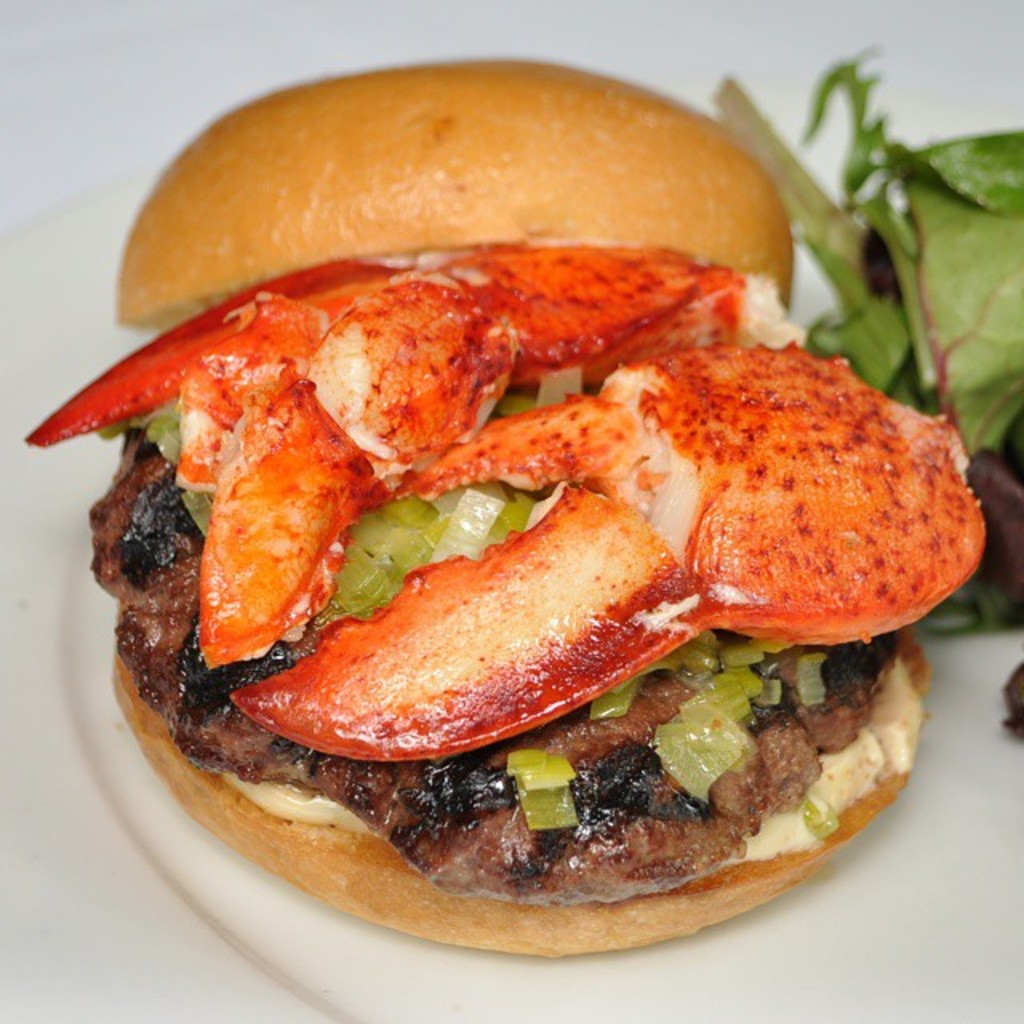Hamburger: (28, 59, 982, 964)
